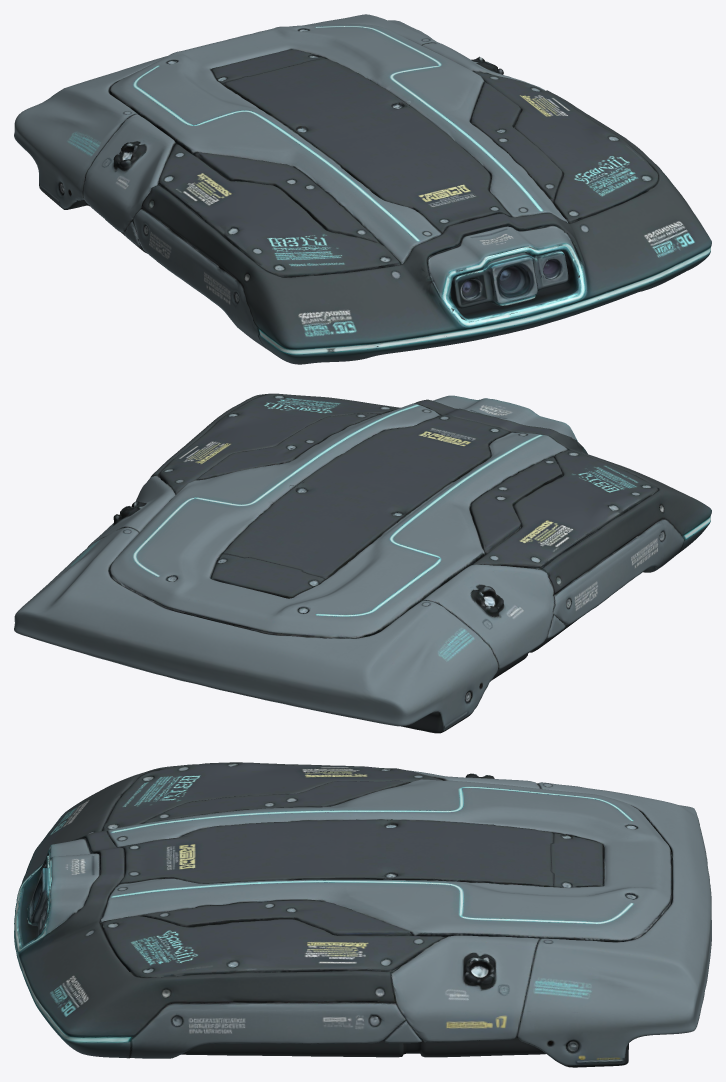
The model's file is tripo_convert_bfdb37d6-7143-4e67-b24b-06d551203069.fbx.
The picture shows the model from 3 angles, top to bottom: view 1: azimuth 30°, elevation 25°; view 2: azimuth 150°, elevation 25°; view 3: azimuth 270°, elevation 25°; orthographic projection. The views are drawn at different scales.
Visible parts, largest first — view 1: tripo_node_bfdb37d6; view 2: tripo_node_bfdb37d6; view 3: tripo_node_bfdb37d6.
Part boxes in pixels (x1=…): tripo_node_bfdb37d6: x1=14, y1=14, x2=711, y2=364; tripo_node_bfdb37d6: x1=14, y1=393, x2=711, y2=733; tripo_node_bfdb37d6: x1=14, y1=762, x2=711, y2=1067.
Size of the model in its own units: 0.7479 by 0.1839 by 0.9796.
Materials: 1 (1 with a texture image).
